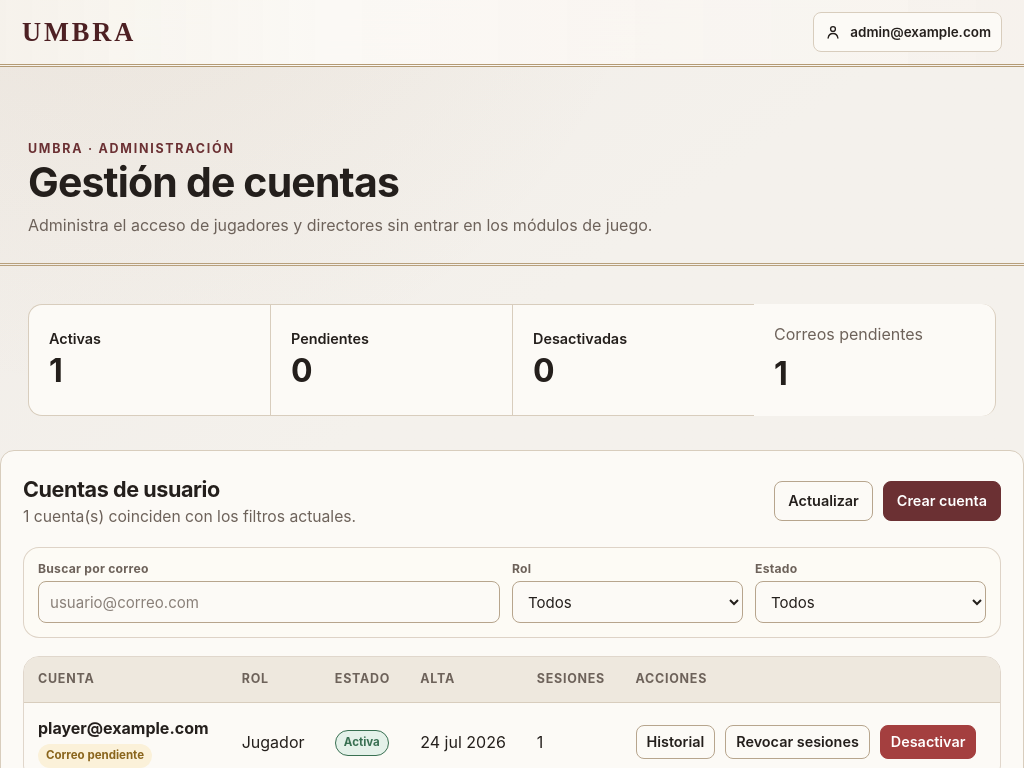
Test: SuperAdminDashboardView › requires a categorized explanation before deactivation
The image size is (1024, 768).
Click the button "Desactivar". click: (928, 742)
box: [880, 725, 976, 759]
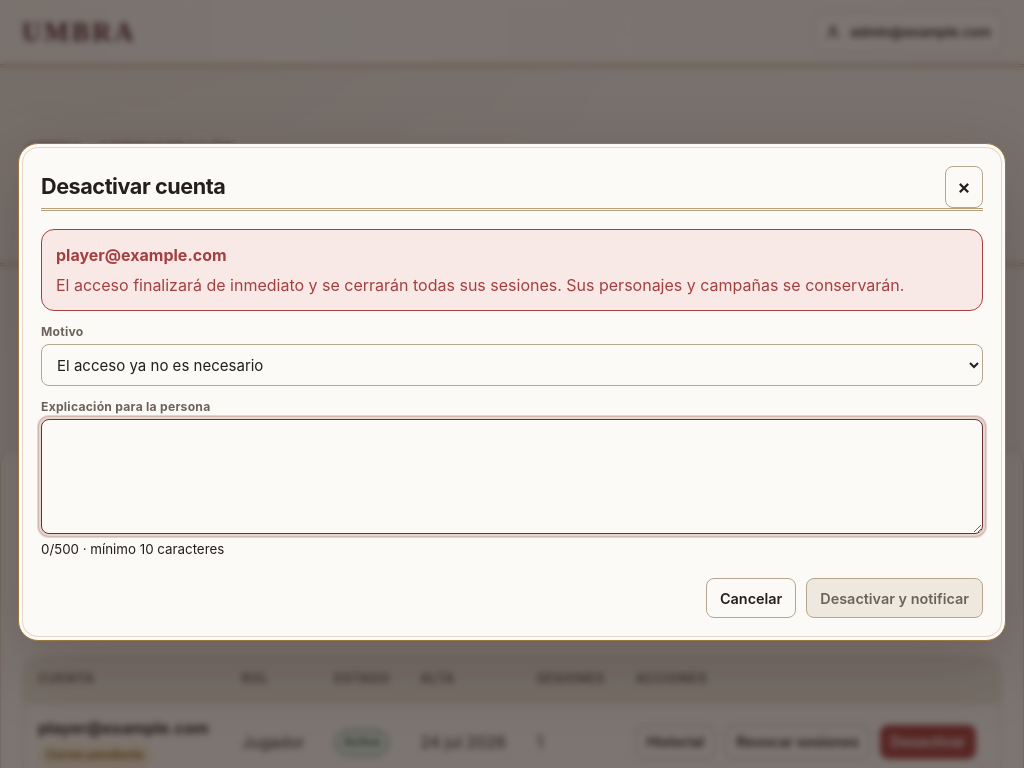
Expected: the dialog "Desactivar cuenta" is shown
Expected: the dropdown labelled "Motivo" is shown, [41, 344, 983, 386]
Expected: the button "Desactivar y notificar" is disabled, [806, 578, 983, 618]
